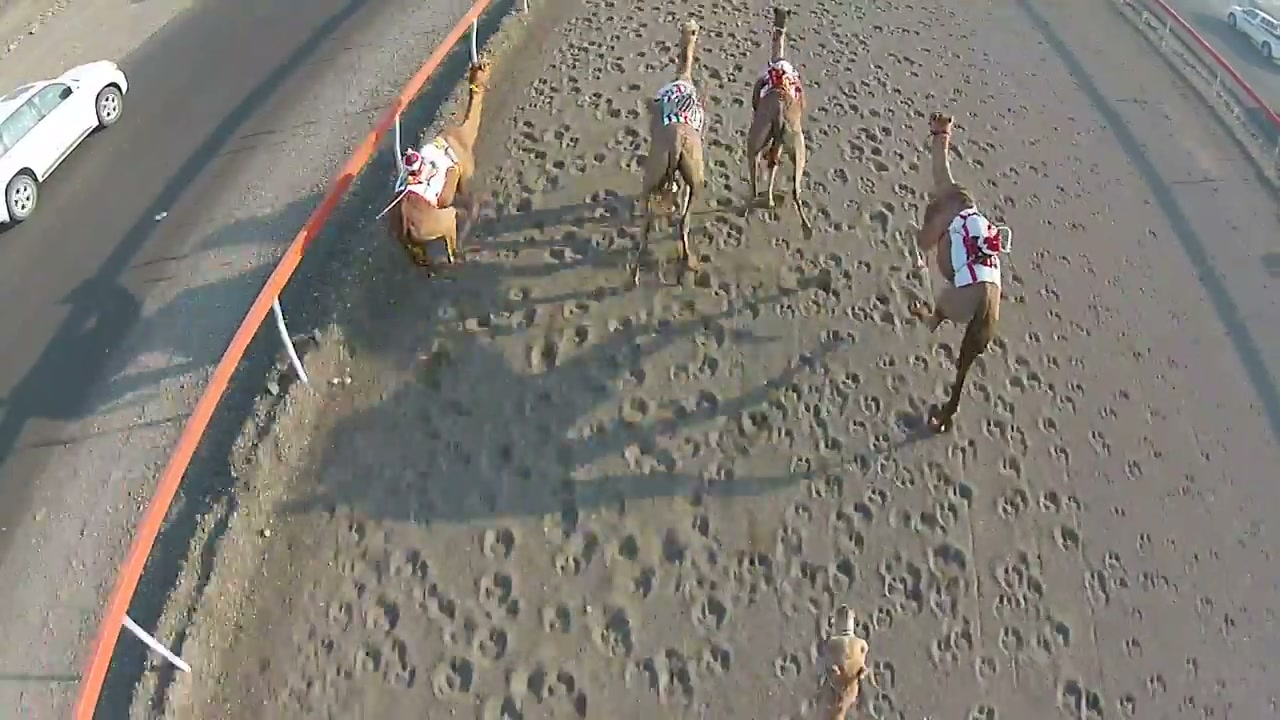animal_footprint: (187, 0, 1276, 719)
